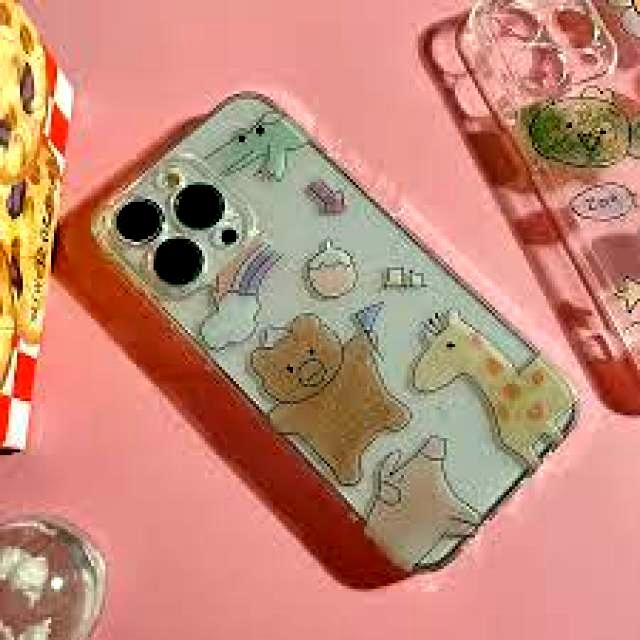lens_back: (164, 181, 228, 232), (150, 235, 208, 289), (107, 193, 165, 245)
phone: (92, 88, 585, 582)
